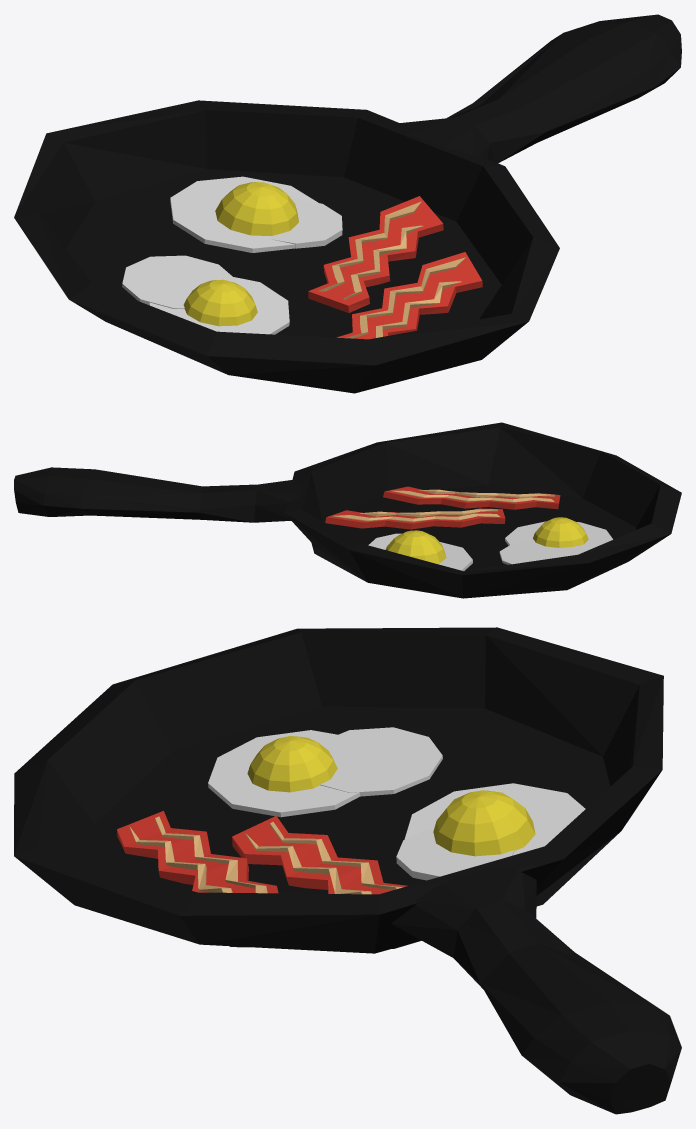
File: breakfast.glb
3 views of the same model, one above another, from view 1: azimuth 30°, elevation 25°; view 2: azimuth 150°, elevation 25°; view 3: azimuth 270°, elevation 25° (orthographic). The views are drawn at different scales.
Visible parts, largest first — view 1: node_MeshObject448804928-PolyPaper18; view 2: node_MeshObject448804928-PolyPaper18; view 3: node_MeshObject448804928-PolyPaper18.
Part boxes in pixels (box(x1,y1,x2,y2)): node_MeshObject448804928-PolyPaper18: box(14, 14, 681, 393); node_MeshObject448804928-PolyPaper18: box(14, 422, 681, 598); node_MeshObject448804928-PolyPaper18: box(14, 627, 681, 1114).
Size of the model in its own units: 1.4 by 0.1714 by 0.8972.
